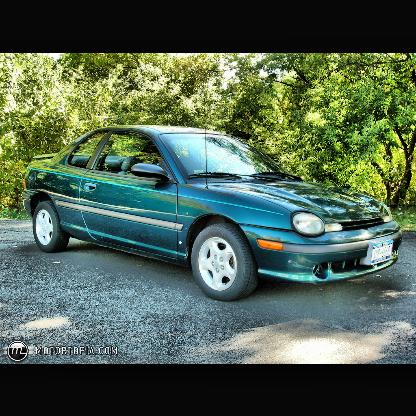Plymouth Neon Coupe 1999: (21, 124, 403, 305)
